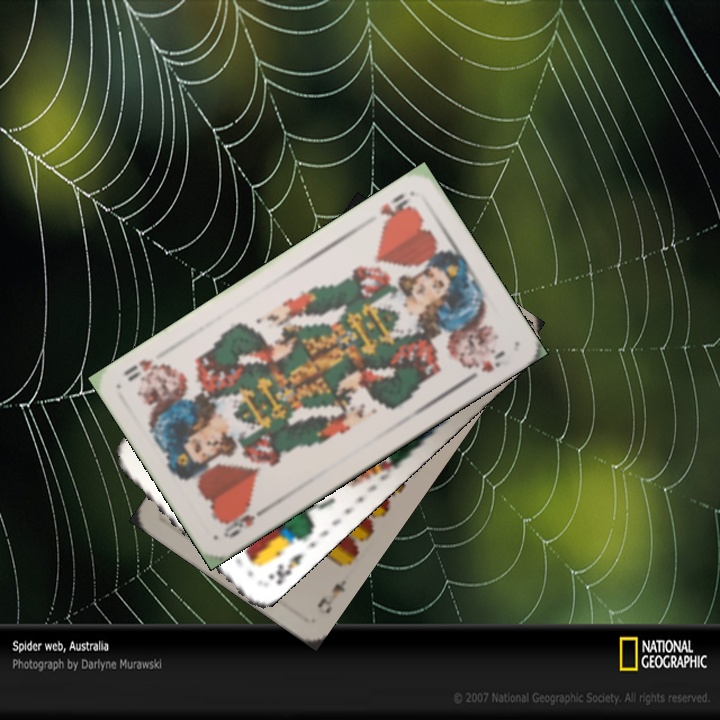E9: (313, 575, 350, 617)
EK: (264, 549, 306, 587)
HO: (218, 502, 272, 541), (376, 189, 415, 230)
